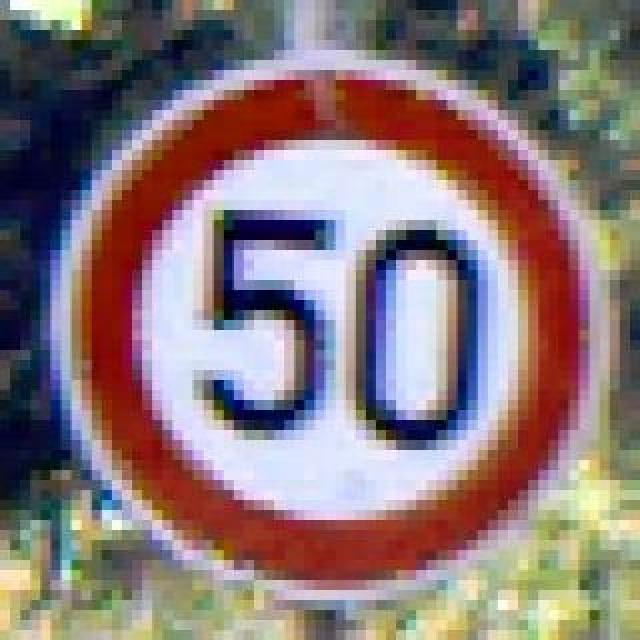50 kph: (42, 40, 610, 590)
